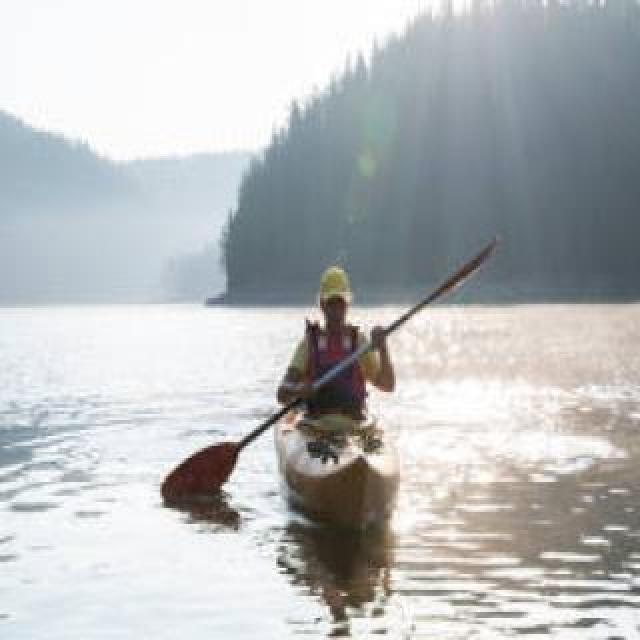kayak: (276, 417, 397, 524)
